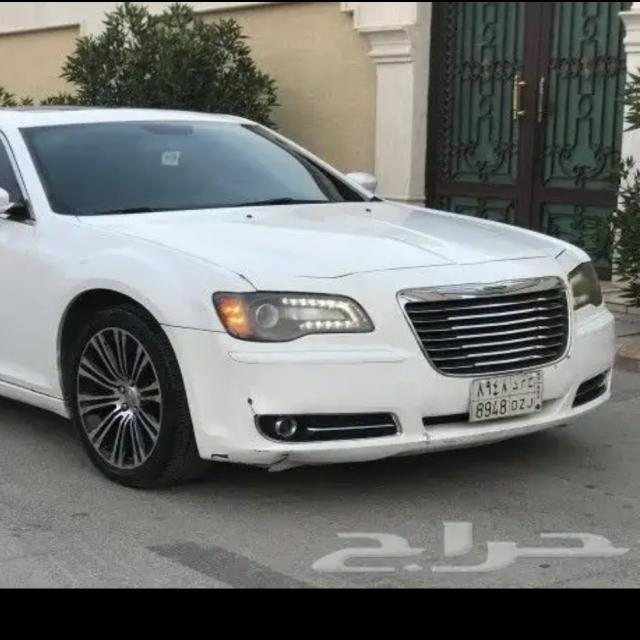license_plate: (472, 370, 544, 420)
